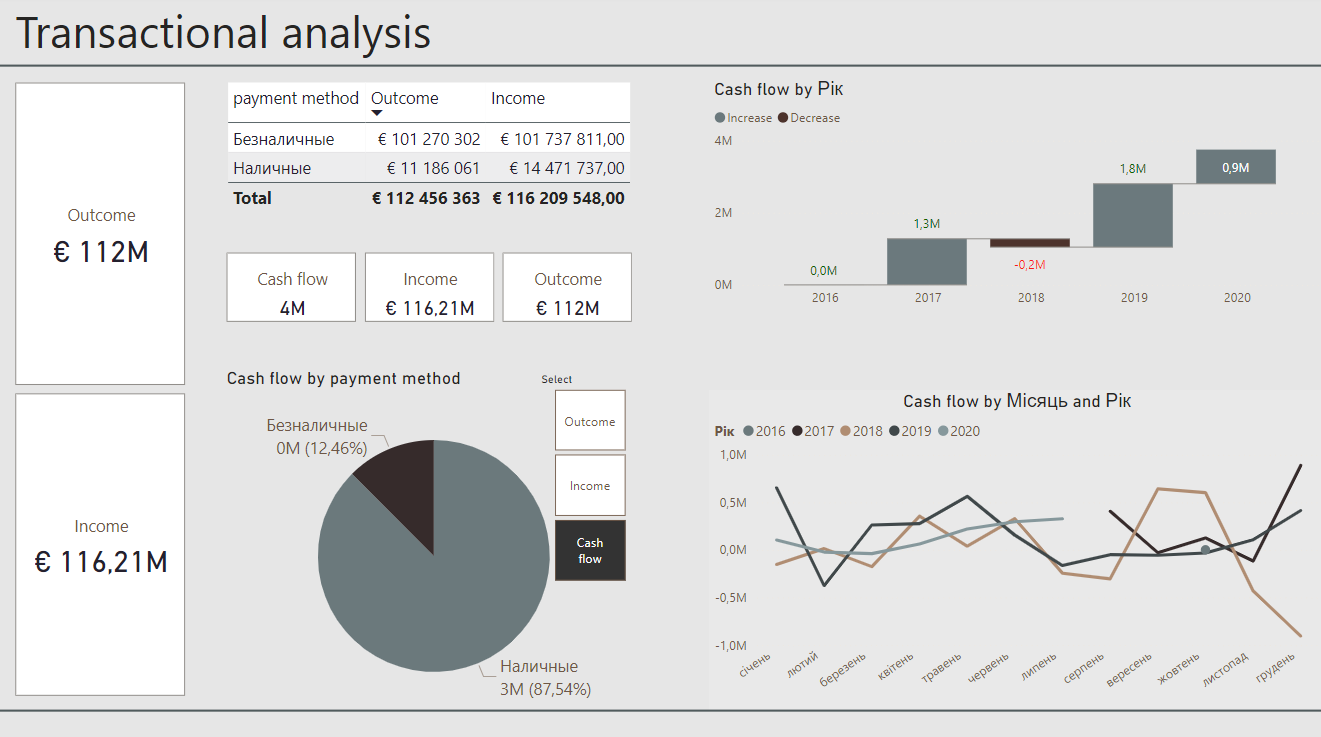

The dashboard page shown, as its layout file describes it:
{"tool":"powerbi","page":{"name":"Страница 1","canvas":[1280,720],"ordinal":0},"visuals":[{"type":"textbox","box":[10.9,0,997.7,98.9],"z":0},{"type":"cardVisual","fields":{"Data":["_m.Costs","_m.Income"]},"box":[10.9,79.6,174.9,602],"z":1000},{"type":"tableEx","fields":{"Values":["Transactions.ВидДенежныхСредств","_m.Costs","_m.Income"]},"box":[214.7,79.6,410.2,139.9],"z":2000},{"type":"pieChart","fields":{"Y":["_m.Cash flow"],"Category":["Transactions.ВидДенежныхСредств"]},"box":[214.7,359.5,410.2,345],"z":3000},{"type":"slicer","fields":{"Values":["Select.Select"]},"box":[510.3,359.5,118.2,212.3],"z":4000},{"type":"waterfallChart","fields":{"Y":["_m.Cash flow"],"Category":["Calendar.Date.Variation.Ієрархія дат.Рік","Calendar.Date.Variation.Ієрархія дат.Квартал","Calendar.Date.Variation.Ієрархія дат.Місяць","Calendar.Date.Variation.Ієрархія дат.День"]},"box":[685.3,79.6,594.8,230.4],"z":5000},{"type":"lineChart","fields":{"Y":["_m.Cash flow"],"Category":["Calendar.Date.Variation.Ієрархія дат.Місяць"],"Series":["Calendar.Date.Variation.Ієрархія дат.Рік"]},"box":[685.3,381.2,594.8,310.1],"z":6000},{"type":"shape","box":[0,672,1280,37.4],"z":7000},{"type":"shape","box":[0,49.5,1280,37.4],"z":8000},{"type":"cardVisual","fields":{"Data":["_m.Cash flow","_m.Income","_m.Outcome"]},"box":[214.7,243.7,401.7,77.2],"z":8001}]}

Visuals, with their boxes in screenshot pixels (x1, y1, x2, y2), scaled from the page's 1280x720 canvas onto the 1321x737 screenshot:
textbox: locate(11, 0, 1041, 101)
cardVisual - _m.Costs x _m.Income: locate(11, 81, 192, 698)
tableEx - Transactions.ВидДенежныхСредств x _m.Costs: locate(222, 81, 645, 225)
pieChart - _m.Cash flow x Transactions.ВидДенежныхСредств: locate(222, 368, 645, 721)
slicer - Select.Select: locate(527, 368, 649, 585)
waterfallChart - _m.Cash flow x Calendar.Date.Variation.Ієрархія дат.Рік: locate(707, 81, 1320, 317)
lineChart - _m.Cash flow x Calendar.Date.Variation.Ієрархія дат.Місяць: locate(707, 390, 1320, 708)
shape: locate(0, 688, 1320, 726)
shape: locate(0, 51, 1320, 89)
cardVisual - _m.Cash flow x _m.Income: locate(222, 249, 636, 328)
